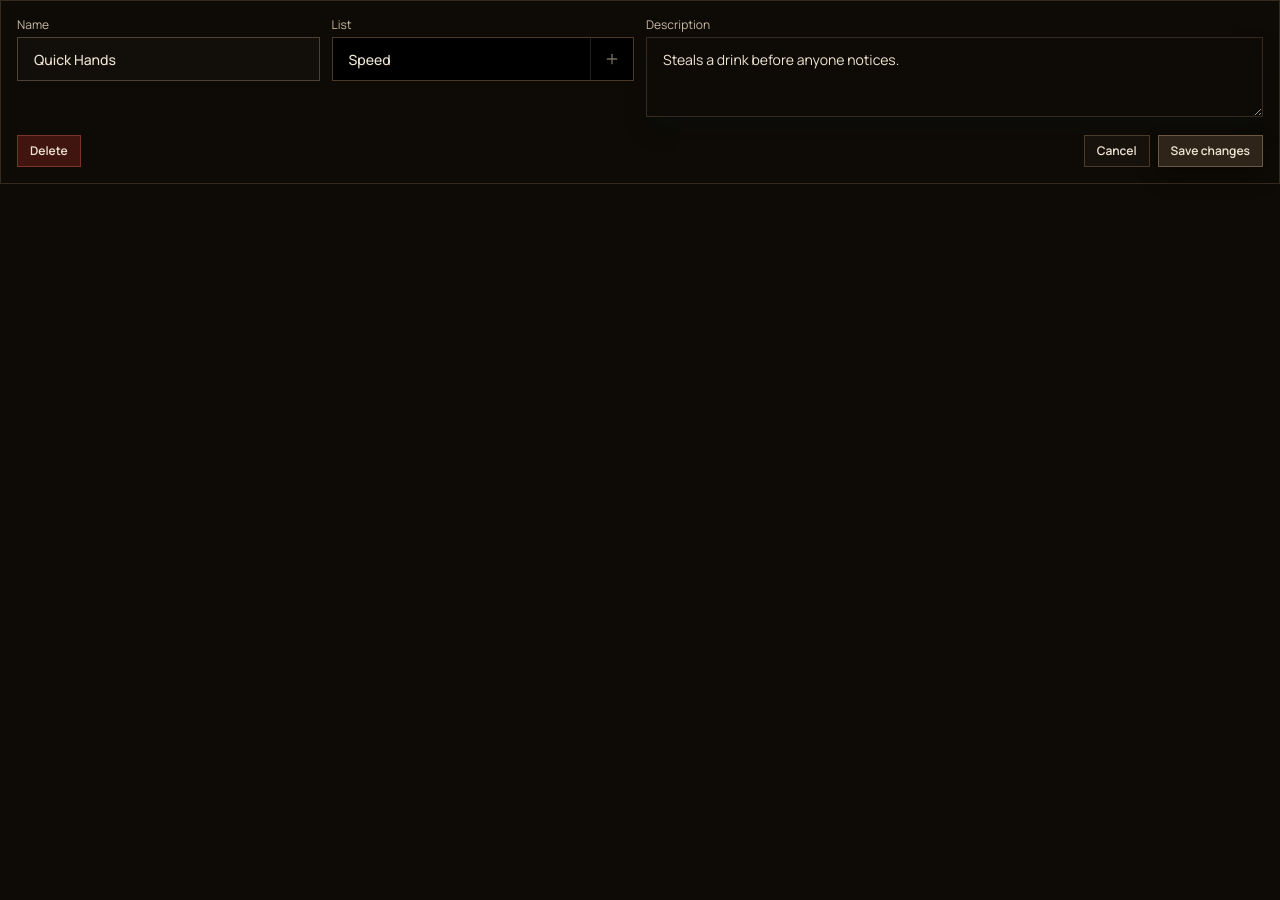
AddSkillForm: Delete › shows a refused delete's reason in the confirm, which stays open with the entry still listed, and nothing in the form behind it (BUG-148)
This screenshot has width=1280, height=900.
Click the button "Delete" at [49, 151], box [17, 135, 81, 167]
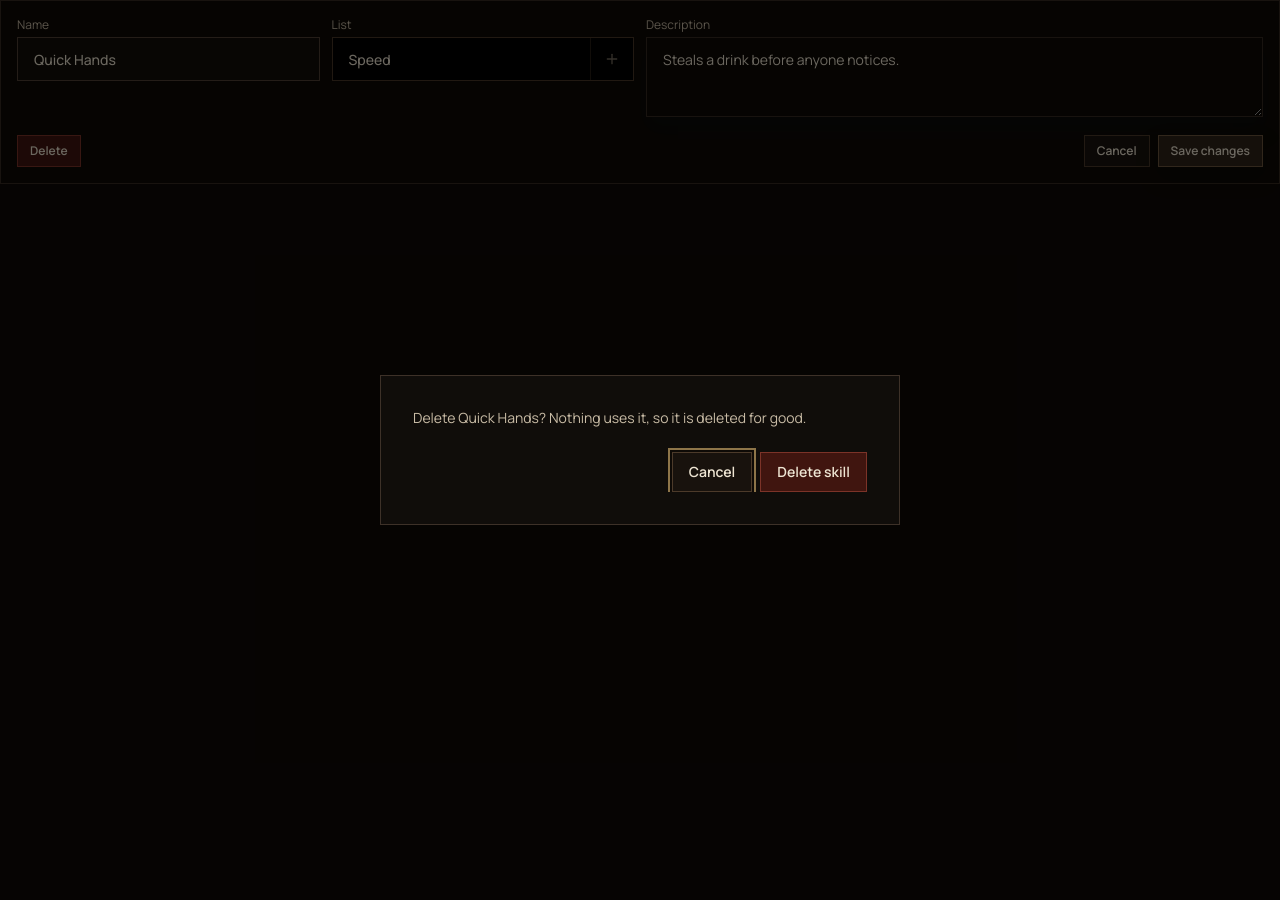
Expected: the text "deleted for good" is shown, [413, 408, 806, 427]
Click the button "Delete skill" at [814, 472], box [760, 452, 867, 492]
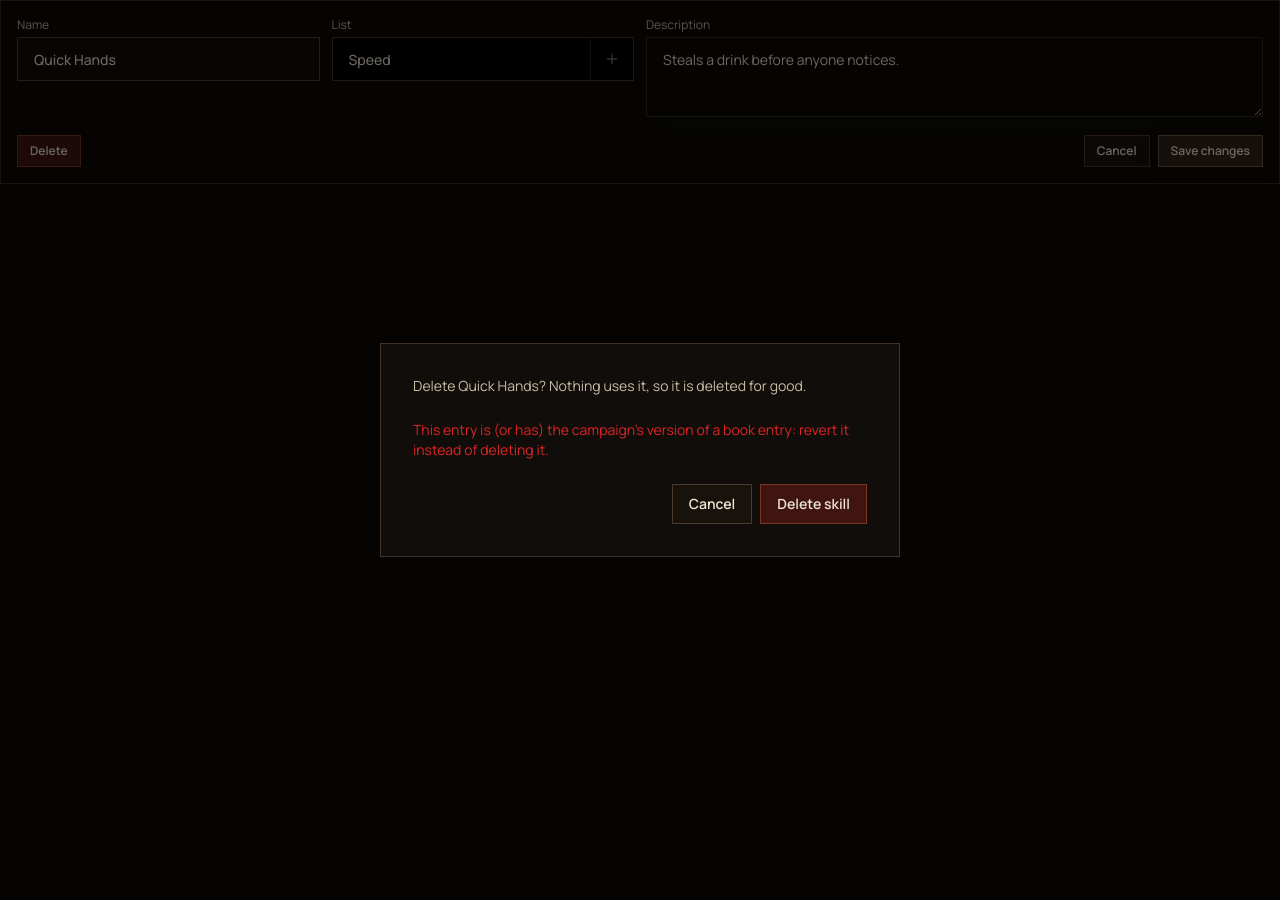
Expected: the message shows "This entry is (or has) the campaign's version of a book entry: revert it instead of deleting it.", [413, 420, 849, 459]
Expected: the text "This entry is (or has) the campaign's version of a book entry: revert it instead of deleting it." is shown once, [413, 420, 867, 460]
